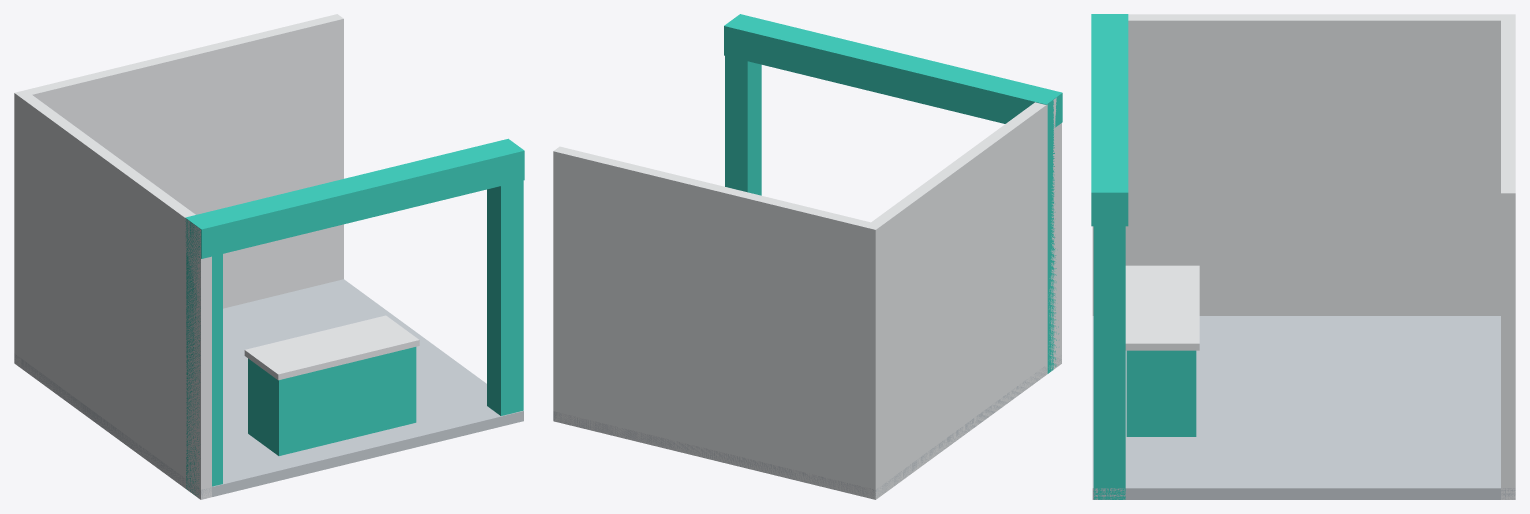
3 views of the same model, side by side, from view 1: azimuth 30°, elevation 25°; view 2: azimuth 150°, elevation 25°; view 3: azimuth 270°, elevation 25° (orthographic). The views are drawn at different scales.
Parts seen in each view (by area): view 1: Exhibition Booth Concept; view 2: Exhibition Booth Concept; view 3: Exhibition Booth Concept.
Boxes of the visible parts, x1=… form: Exhibition Booth Concept: x1=14, y1=14, x2=524, y2=499; Exhibition Booth Concept: x1=553, y1=14, x2=1062, y2=499; Exhibition Booth Concept: x1=1091, y1=14, x2=1515, y2=499.
Size of the model in its own units: 4 by 3.2 by 4.02.
